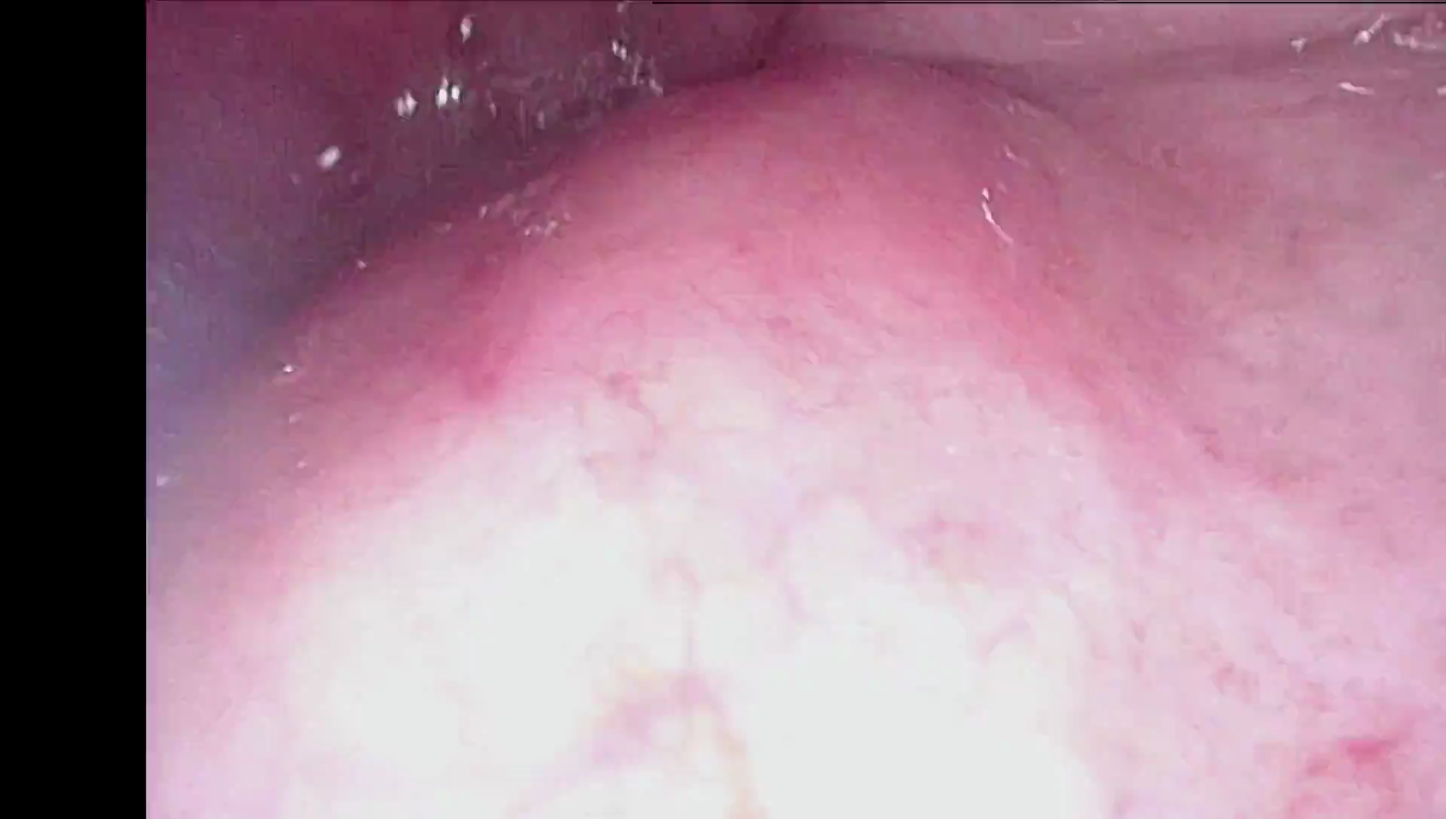close_wall: (279, 260, 1312, 819)
